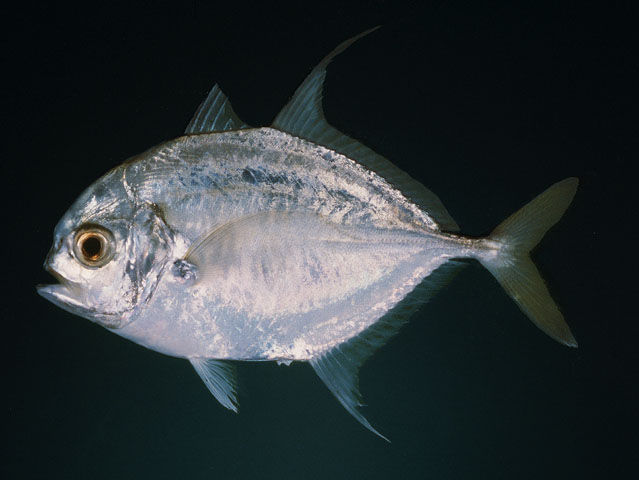fish: (37, 25, 581, 441)
